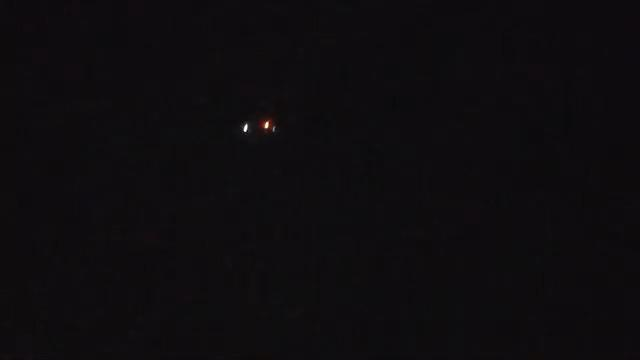Plane: (220, 112, 301, 143)
